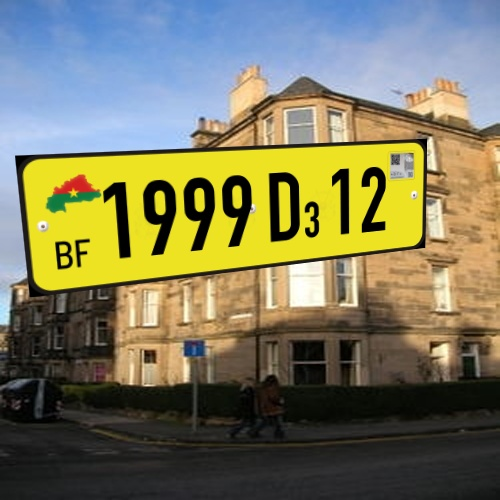plate: (9, 128, 451, 307)
